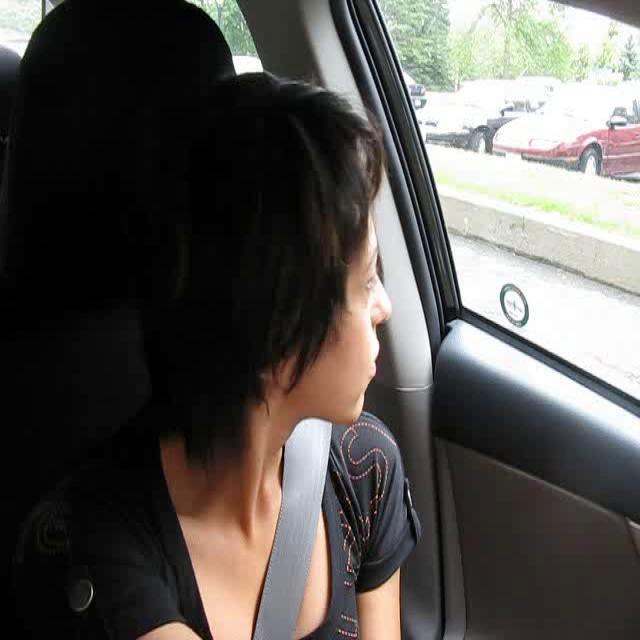close: (373, 346, 388, 391)
